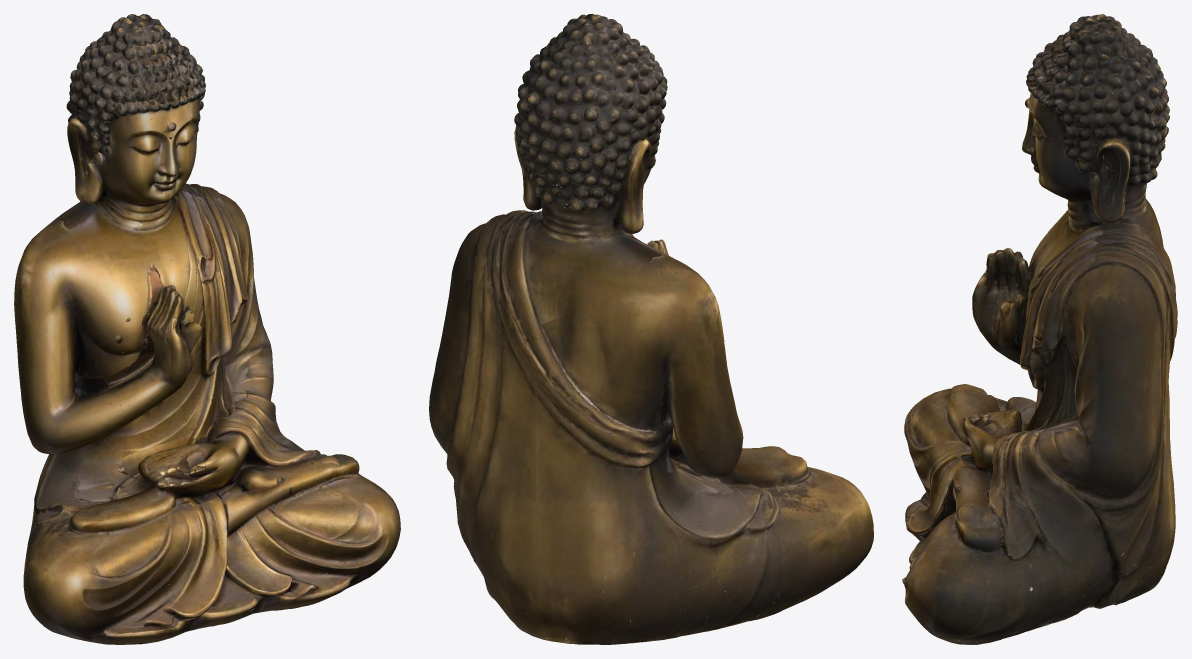
File: thichca.glb
3 views of the same model, side by side, from view 1: azimuth 30°, elevation 25°; view 2: azimuth 150°, elevation 25°; view 3: azimuth 270°, elevation 25° (orthographic). The views are drawn at different scales.
Parts seen in each view (by area): view 1: Object_6, Object_7, Object_5, Object_4, Object_8; view 2: Object_6, Object_5, Object_8, Object_4, Object_7; view 3: Object_7, Object_5, Object_4, Object_6, Object_8.
Part boxes in pixels (box(x1,y1,x2,y2)): Object_6: box(14, 67, 394, 644); Object_7: box(19, 32, 362, 623); Object_5: box(20, 15, 390, 640); Object_4: box(31, 14, 400, 644); Object_8: box(15, 14, 273, 565); Object_6: box(435, 41, 873, 630); Object_5: box(430, 26, 830, 644); Object_8: box(429, 14, 739, 644); Object_4: box(443, 14, 841, 644); Object_7: box(429, 19, 866, 634); Object_7: box(951, 22, 1152, 644); Object_5: box(902, 16, 1177, 644); Object_4: box(902, 14, 1176, 641); Object_6: box(904, 48, 1175, 640); Object_8: box(1067, 16, 1177, 605).
Bounding box in the file's own units: 1.34 × 1.9 × 0.8617.
Materials: 1 (1 with a texture image).
